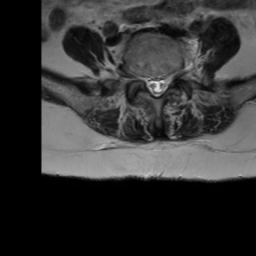CCS_normal: (153, 67, 160, 102)
LFS_normal: (169, 61, 178, 88)
LLS_normal: (161, 68, 169, 98)
RFS_stenosis: (136, 64, 144, 88)
RLS_normal: (144, 67, 153, 98)
